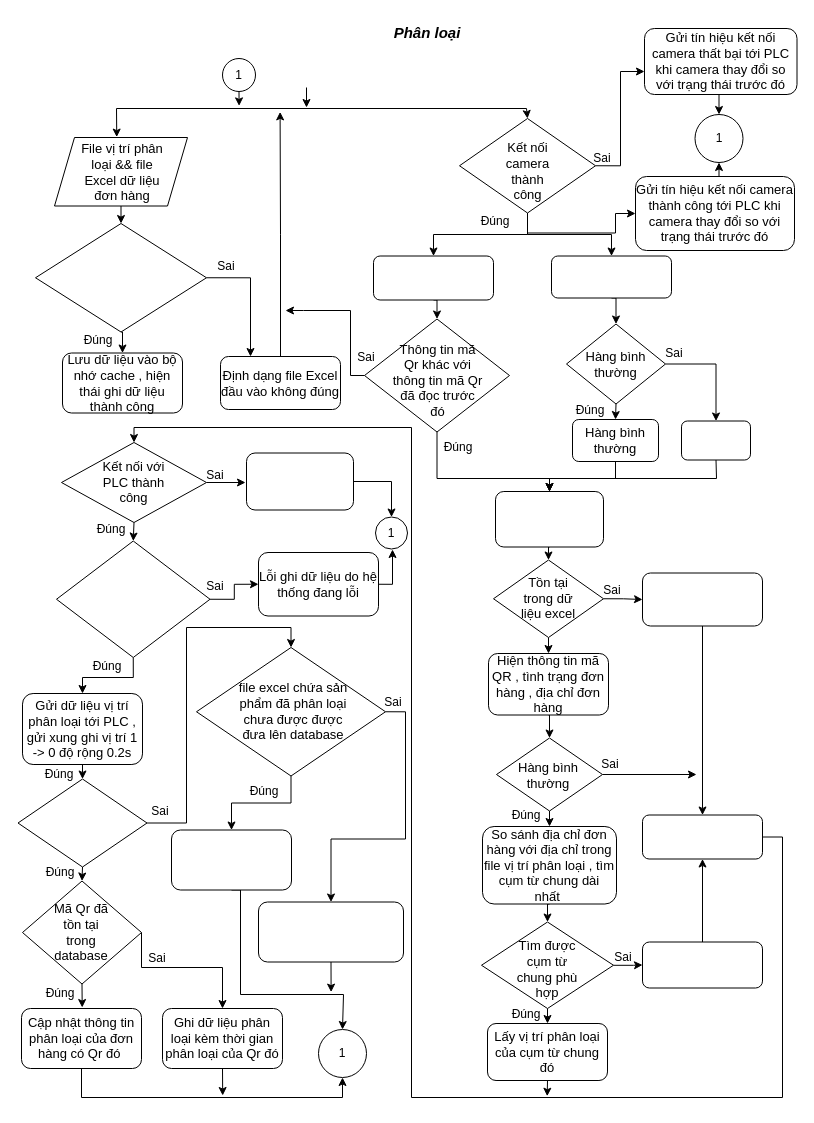
Image size: 814x1123. Some labels were removed from this diagram. The shapes that lost their labels are listed below. From the top down, each one's box as (x1, y1, x2, y2) in pixels, then its label:
(34, 222, 206, 332): File excel có định dạng bảng 2 cột Qr và địa chỉ đơn hàng
(372, 255, 494, 300): Đọc dữ liệu mã QR
(550, 255, 672, 298): Kiểm tra ngoại quan đơn hàng
(680, 420, 750, 460): Hàng rách
(246, 452, 354, 510): Lỗi không kết nối được với PLC
(494, 490, 604, 547): Đọc và tìm mã Qr có thông tin trùng trong file excel
(56, 540, 210, 658): Trạng thái hiện tại của hệ thống phân loại không lỗi
(642, 572, 762, 626): Thông tin mã Qr không tồn tại trong Excel
(17, 778, 147, 867): Kết nối với database thành công
(642, 814, 762, 859): Vị trí phân loại là 6
(170, 829, 292, 890): Ghi dữ liệu thông tin đơn hàng , thời gian phân loại
(258, 901, 404, 962): tạo file excel chứa sản phẩm đã phân loại chưa được được đưa lên database
(642, 941, 762, 988): Không tìm thấy vị trí phân loại phù hợp
